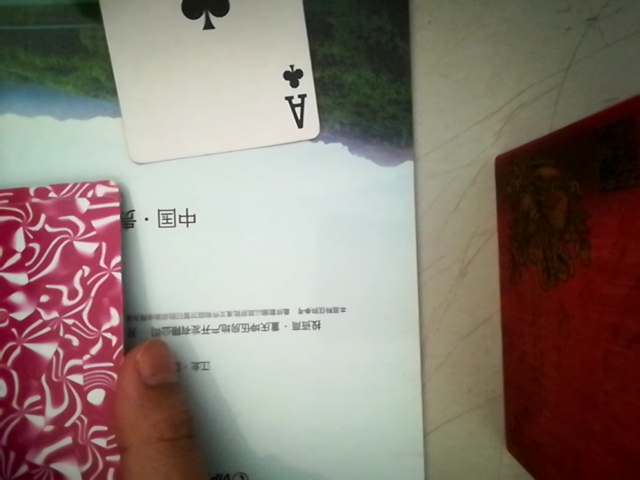mh a: (80, 0, 315, 158)
